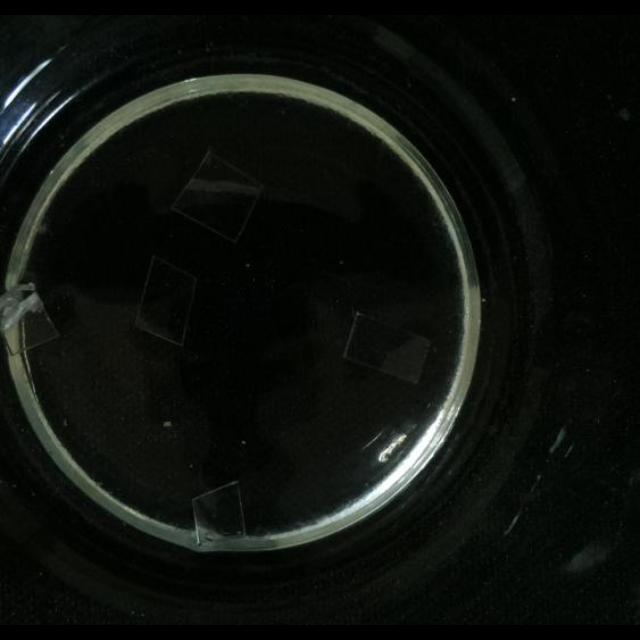Film: (169, 148, 267, 245), (341, 308, 433, 386), (134, 256, 198, 348), (0, 282, 60, 356), (191, 479, 247, 545)
